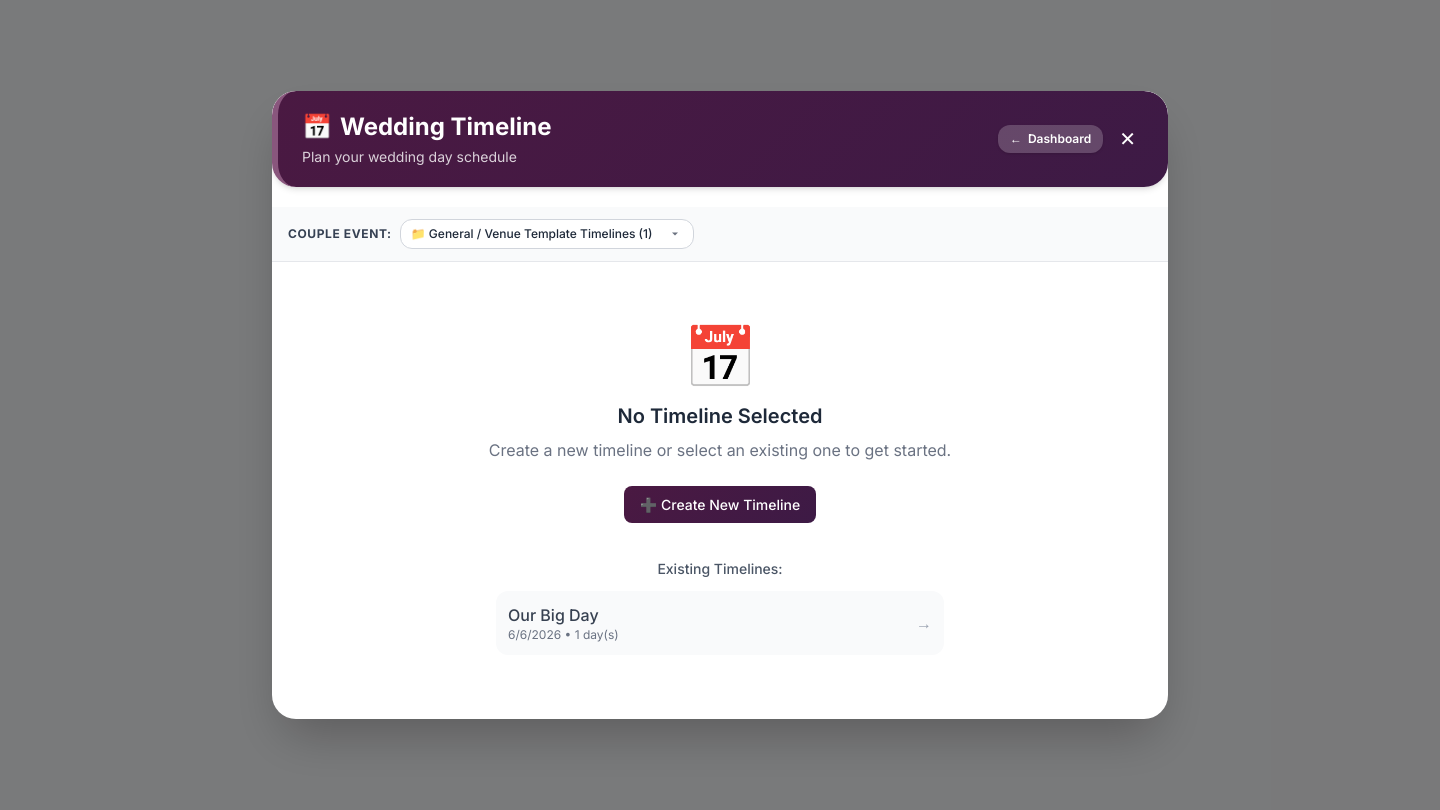
TimelinePanel event edit flow › closes without saving on cancel
Click the text "Our Big Day" at (553, 615), box [508,605,599,625]
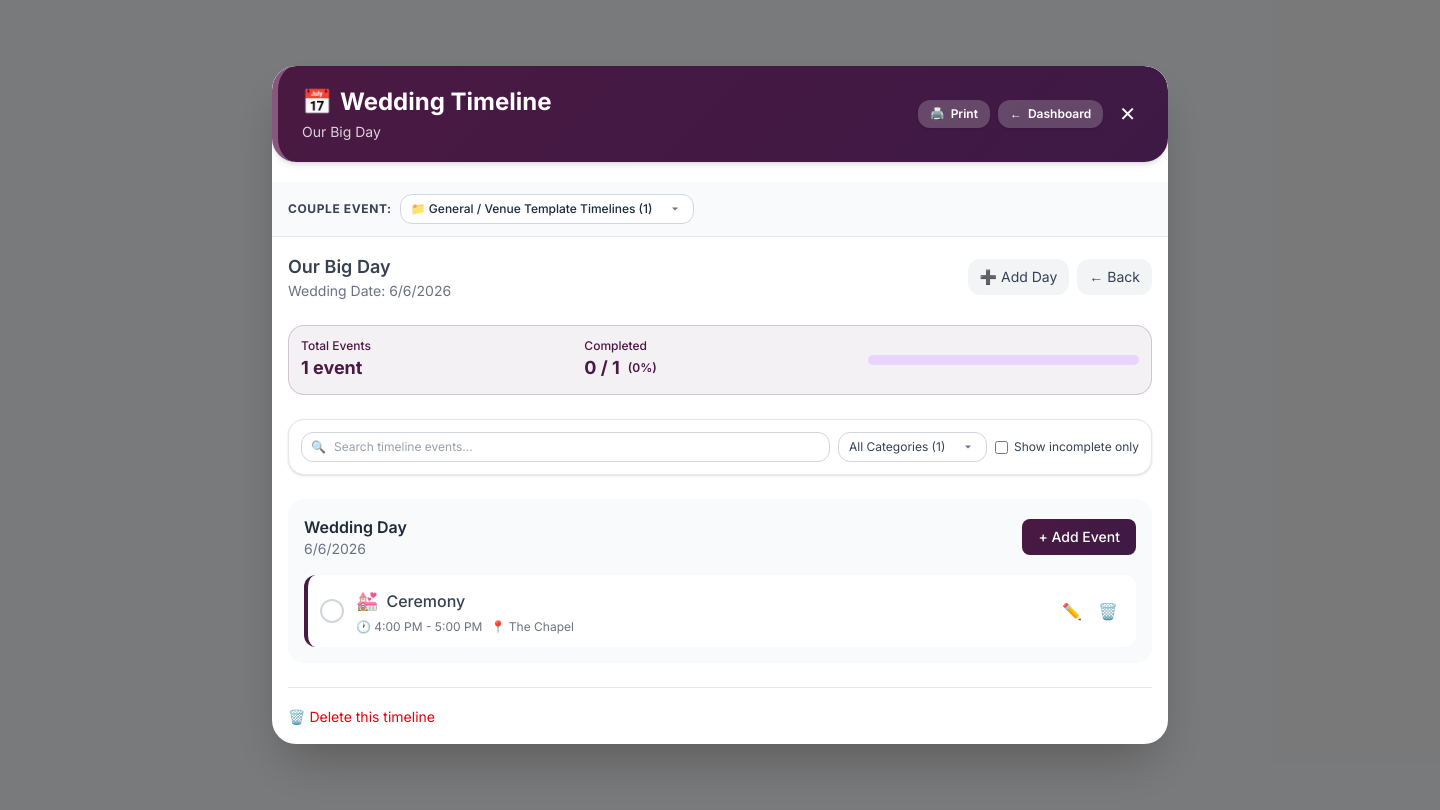
Click the button titled "Edit event" at (1072, 611), box [1056,593,1088,629]
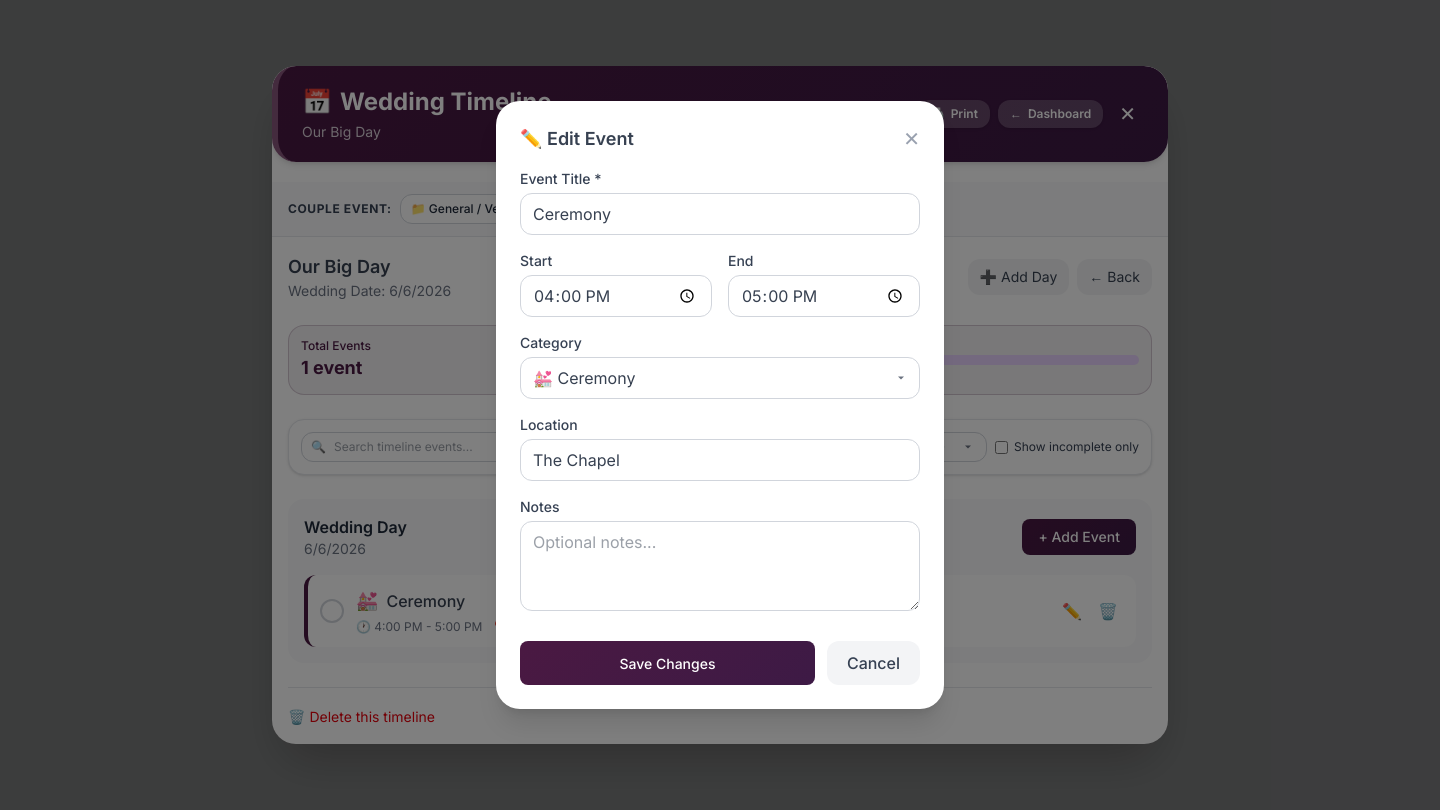
Click the button "Cancel" at (873, 663), box [827,641,920,685]
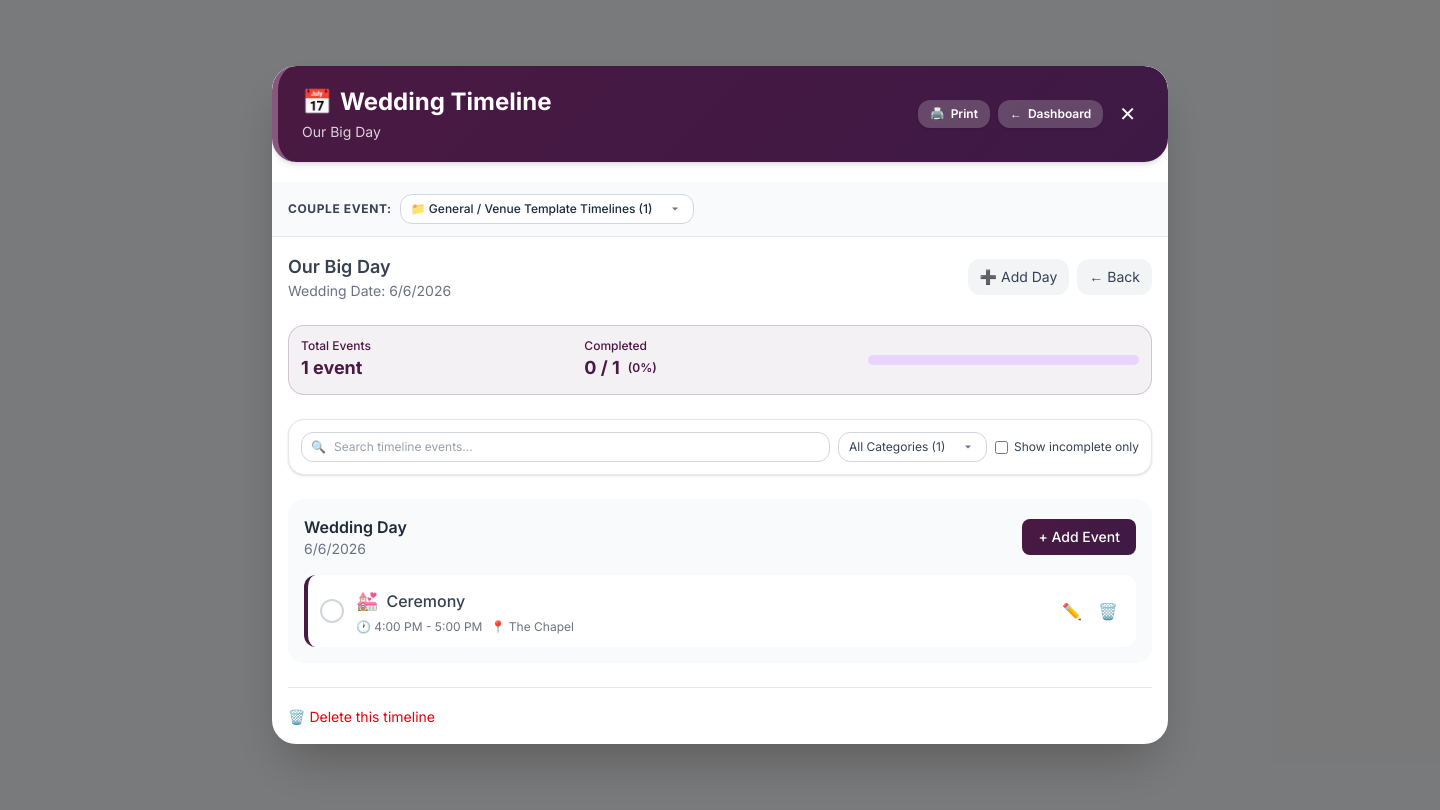
Check: the text "Ceremony" is shown, box [386,589,465,613]
Check: the heading "✏️ Edit Event" is gone
